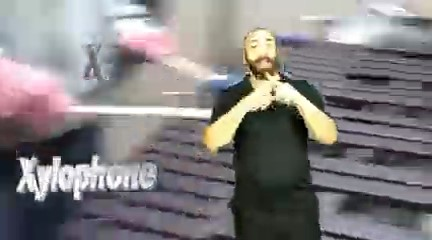X: (239, 69, 309, 112)
